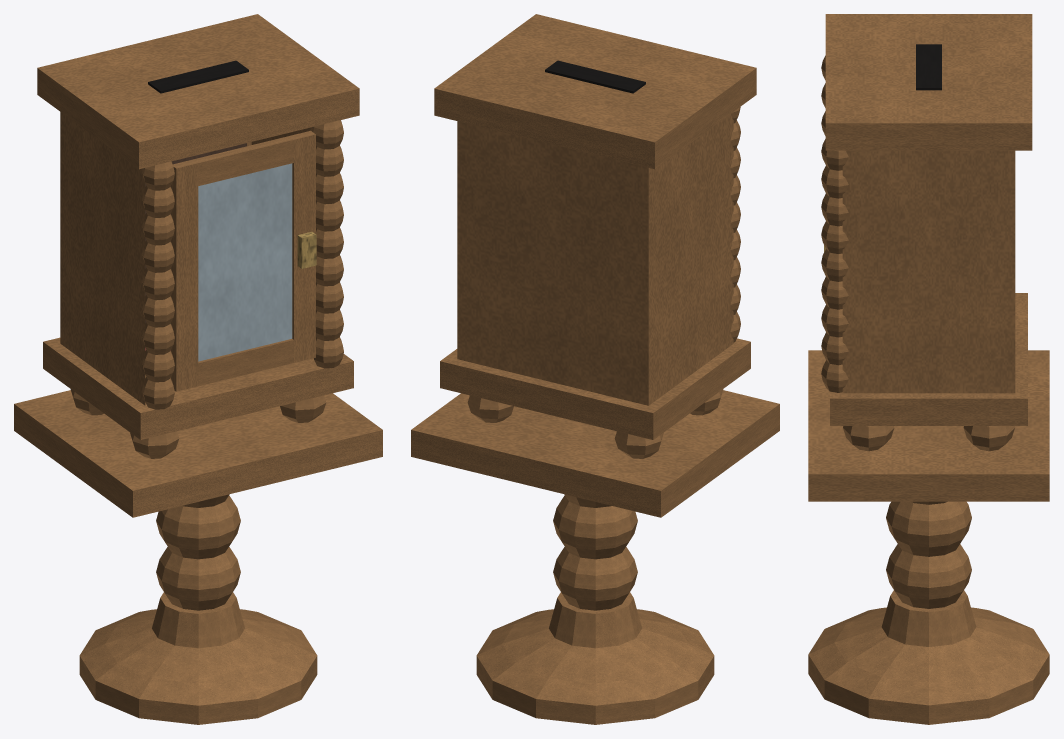
File: DonationBox.fbx
The picture shows the model from 3 angles, left to right: view 1: azimuth 30°, elevation 25°; view 2: azimuth 150°, elevation 25°; view 3: azimuth 270°, elevation 25°; orthographic projection.
Parts seen in each view (by area): view 1: DonationBox, DonationBox_Stand, DonationBox_Glass, DonationBox_Door; view 2: DonationBox, DonationBox_Stand; view 3: DonationBox, DonationBox_Stand.
Part boxes in pixels (x1,y1,x2,y2): DonationBox: (37, 14, 359, 458); DonationBox_Stand: (14, 390, 382, 724); DonationBox_Glass: (198, 163, 292, 361); DonationBox_Door: (171, 130, 316, 391); DonationBox: (434, 14, 756, 458); DonationBox_Stand: (411, 390, 779, 724); DonationBox: (821, 14, 1032, 451); DonationBox_Stand: (808, 350, 1049, 724).
Bounding box in the file's own units: 95.2 × 218 × 78.4.
Materials: 1 (1 with a texture image).
